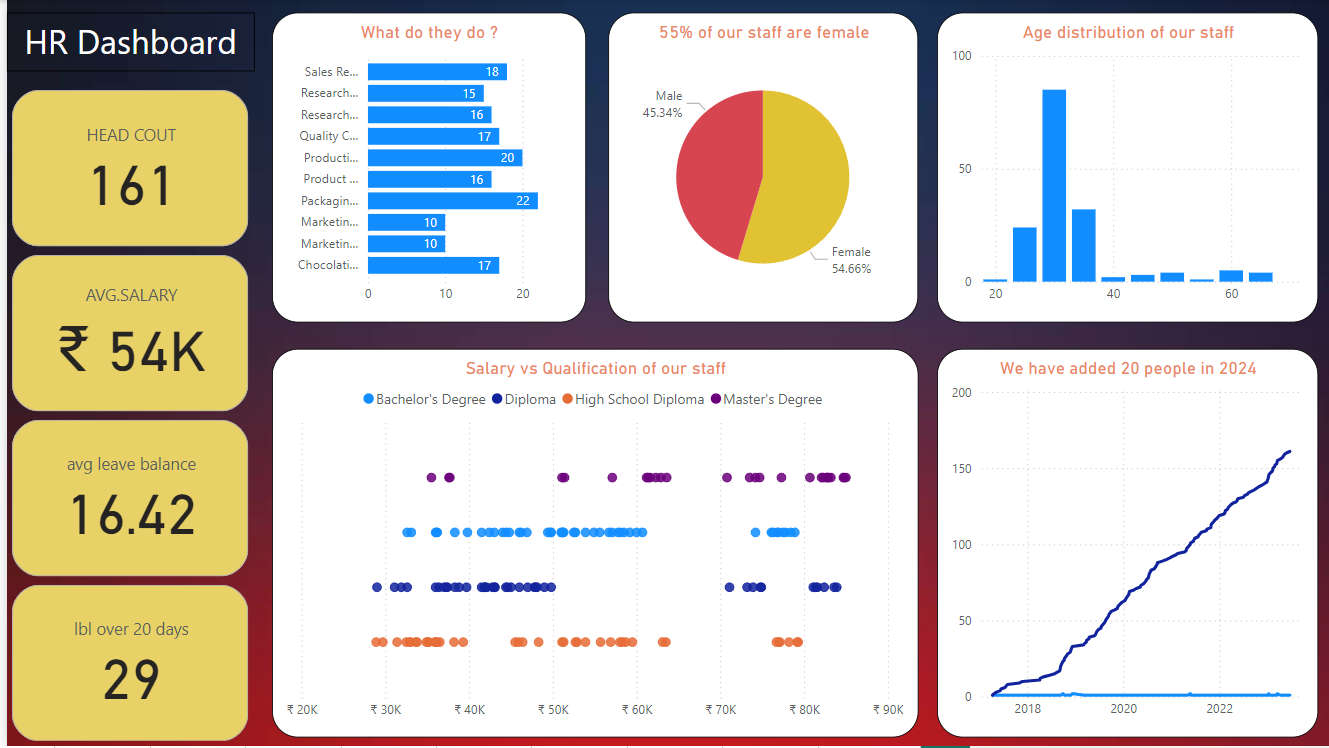

The page's visual inventory and layout, read from the dashboard file:
{"tool":"powerbi","page":{"name":"Dashboard","canvas":[1280,720],"ordinal":0},"visuals":[{"type":"cardVisual","fields":{"Data":["STAFF.HEAD COUT","STAFF.AVG.SALARY","STAFF.avg leave balance","STAFF.lbl over 20 days"]},"box":[0,82,238.9,638.2],"z":0},{"type":"pieChart","title":"55% of our staff are female","fields":{"Category":["STAFF.Gender"],"Y":["STAFF.HEAD COUT"]},"box":[580.3,12.1,299.2,299.2],"z":1000},{"type":"clusteredBarChart","title":"What do they do ?","fields":{"Category":["STAFF.Job Title"],"Y":["STAFF.HEAD COUT"]},"box":[255.8,12.1,302.8,299.2],"z":2000},{"type":"columnChart","title":"Age  distribution of our staff","fields":{"Category":["STAFF.Age (bins)"],"Y":["STAFF.HEAD COUT"]},"box":[897.6,12.1,368,299.2],"z":3000},{"type":"scatterChart","title":"Salary vs Qualification of our staff","fields":{"X":["STAFF.Salary"],"Y":["Education Qualification.Qualification ID"],"Series":["Education Qualification.Qualification"]},"box":[255.8,336.6,623.7,375.2],"z":4000},{"type":"lineChart","title":"We have added 20 people in 2024","fields":{"Y":["STAFF.HEAD COUT","STAFF.cumulative headcount"],"Category":["STAFF.Date of Join"]},"box":[897.6,336.6,368,375.2],"z":5000},{"type":"textbox","box":[0,12.1,238.9,56.7],"z":6000}]}

Visuals, with their boxes in screenshot pixels (x1, y1, x2, y2), scaled from the page's 1280x720 canvas onto the 1329x748 screenshot:
cardVisual - STAFF.HEAD COUT x STAFF.AVG.SALARY: 0,85,248,747
"55% of our staff are female" pieChart: 603,13,913,323
"What do they do ?" clusteredBarChart: 266,13,580,323
"Age  distribution of our staff" columnChart: 932,13,1314,323
"Salary vs Qualification of our staff" scatterChart: 266,350,913,739
"We have added 20 people in 2024" lineChart: 932,350,1314,739
textbox: 0,13,248,71
